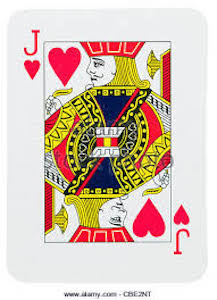JackOfHearts: (3, 6, 210, 289)
